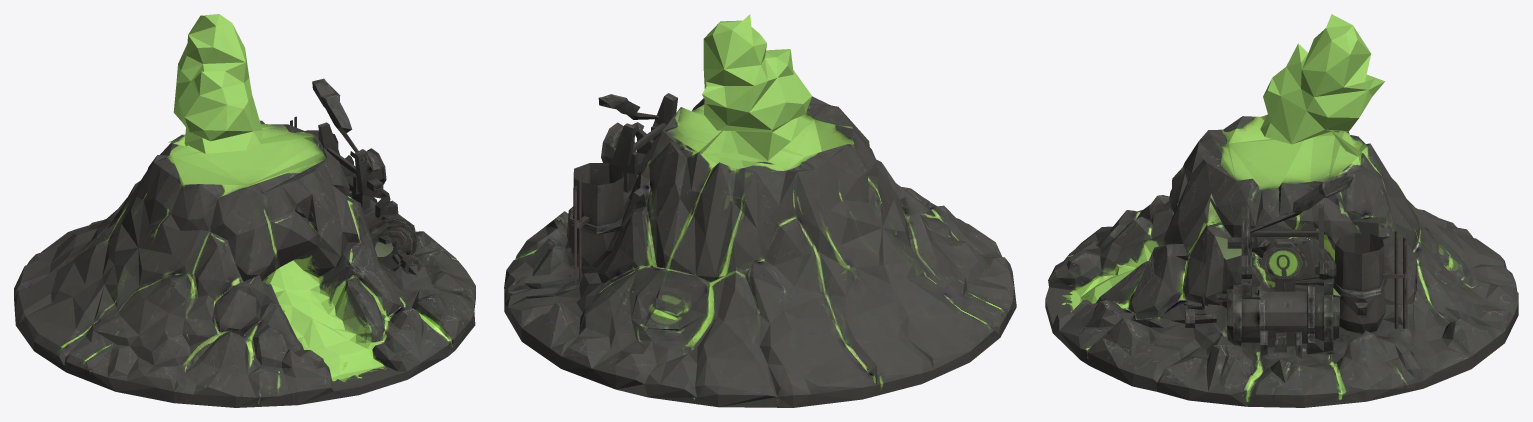
File: plasma_LOD0.glb
3 renders of one model, left to right at view 1: azimuth 30°, elevation 25°; view 2: azimuth 150°, elevation 25°; view 3: azimuth 270°, elevation 25°, orthographic. The views are drawn at different scales.
Parts seen in each view (by area): view 1: vespene_LOD0; view 2: vespene_LOD0; view 3: vespene_LOD0.
Boxes of the visible parts, x1,y1,x2,y2 form: vespene_LOD0: (14, 14, 475, 407); vespene_LOD0: (504, 14, 1016, 407); vespene_LOD0: (1045, 14, 1518, 407).
Bounding box in the file's own units: 0.9999 × 0.6673 × 0.9999.
1 material, 1 textured.
